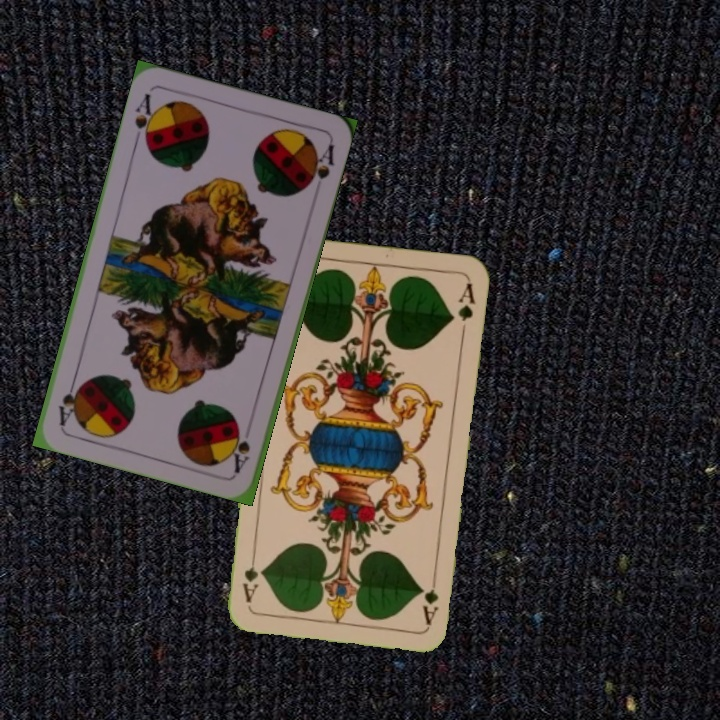GA: (419, 568, 441, 627)
SA: (130, 89, 159, 149), (229, 425, 253, 475)
